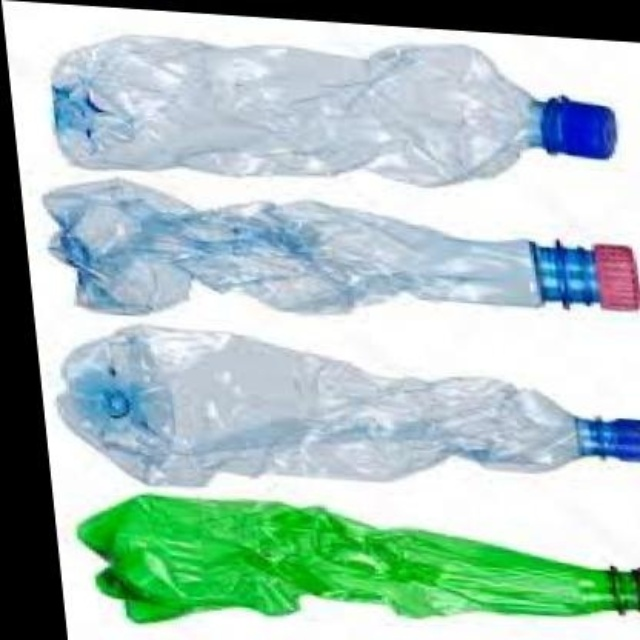trash: (58, 325, 577, 485), (43, 178, 598, 312), (52, 35, 531, 185), (78, 495, 638, 622)
